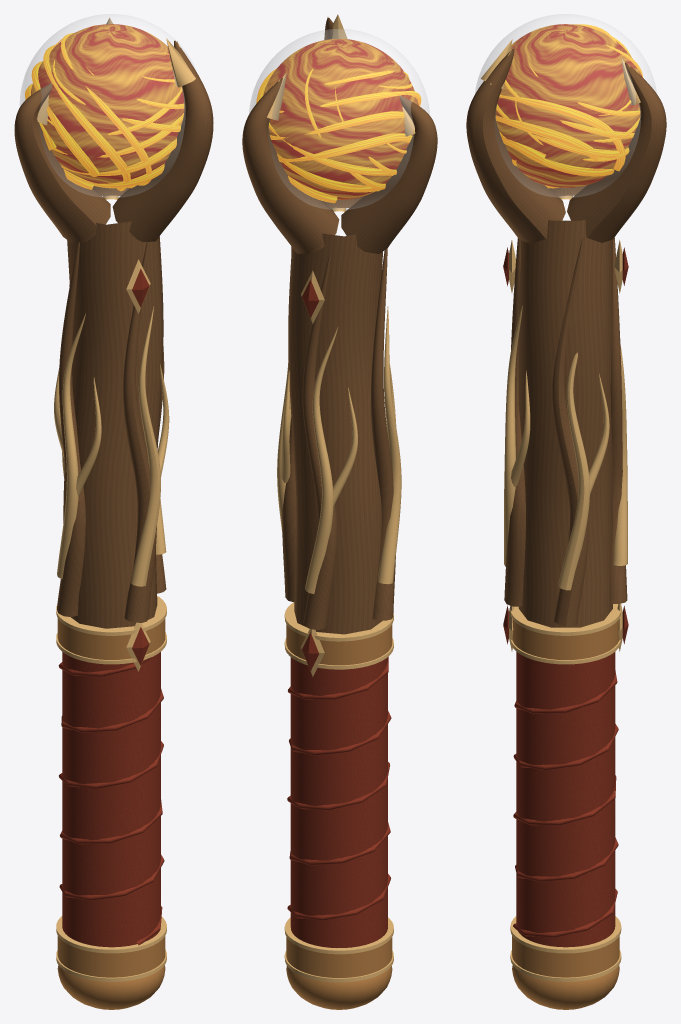
The model's file is fire_wand.glb.
3 renders of one model, left to right at view 1: azimuth 30°, elevation 25°; view 2: azimuth 150°, elevation 25°; view 3: azimuth 270°, elevation 25°, orthographic.
Parts seen in each view (by area): view 1: fire carved wood, fire grip leather, fire thin polished glass skin, fire dense patterned elemental interior, fire polished relief, fire aged collar, fire sculpted elemental flow; view 2: fire carved wood, fire grip leather, fire thin polished glass skin, fire dense patterned elemental interior, fire polished relief, fire aged collar, fire sculpted elemental flow; view 3: fire carved wood, fire grip leather, fire thin polished glass skin, fire dense patterned elemental interior, fire polished relief, fire aged collar, fire sculpted elemental flow.
Boxes of the visible parts, x1,y1,x2,y2 form: fire carved wood: [14, 23, 213, 628]; fire grip leather: [58, 268, 164, 947]; fire thin polished glass skin: [20, 14, 196, 197]; fire dense patterned elemental interior: [31, 24, 184, 183]; fire polished relief: [37, 17, 198, 981]; fire aged collar: [57, 618, 165, 1009]; fire sculpted elemental flow: [25, 25, 184, 191]; fire carved wood: [242, 18, 437, 634]; fire grip leather: [287, 280, 391, 947]; fire thin polished glass skin: [249, 29, 429, 209]; fire dense patterned elemental interior: [263, 39, 418, 199]; fire polished relief: [267, 14, 415, 982]; fire aged collar: [286, 624, 392, 1009]; fire sculpted elemental flow: [256, 61, 421, 203]; fire carved wood: [466, 48, 666, 627]; fire grip leather: [503, 247, 628, 947]; fire thin polished glass skin: [475, 14, 656, 197]; fire dense patterned elemental interior: [495, 24, 642, 187]; fire polished relief: [481, 39, 640, 981]; fire aged collar: [512, 619, 619, 1009]; fire sculpted elemental flow: [495, 24, 643, 188].
Bounding box in the file's own units: 0.0906 × 0.4818 × 0.0891.
7 materials, 4 textured.
